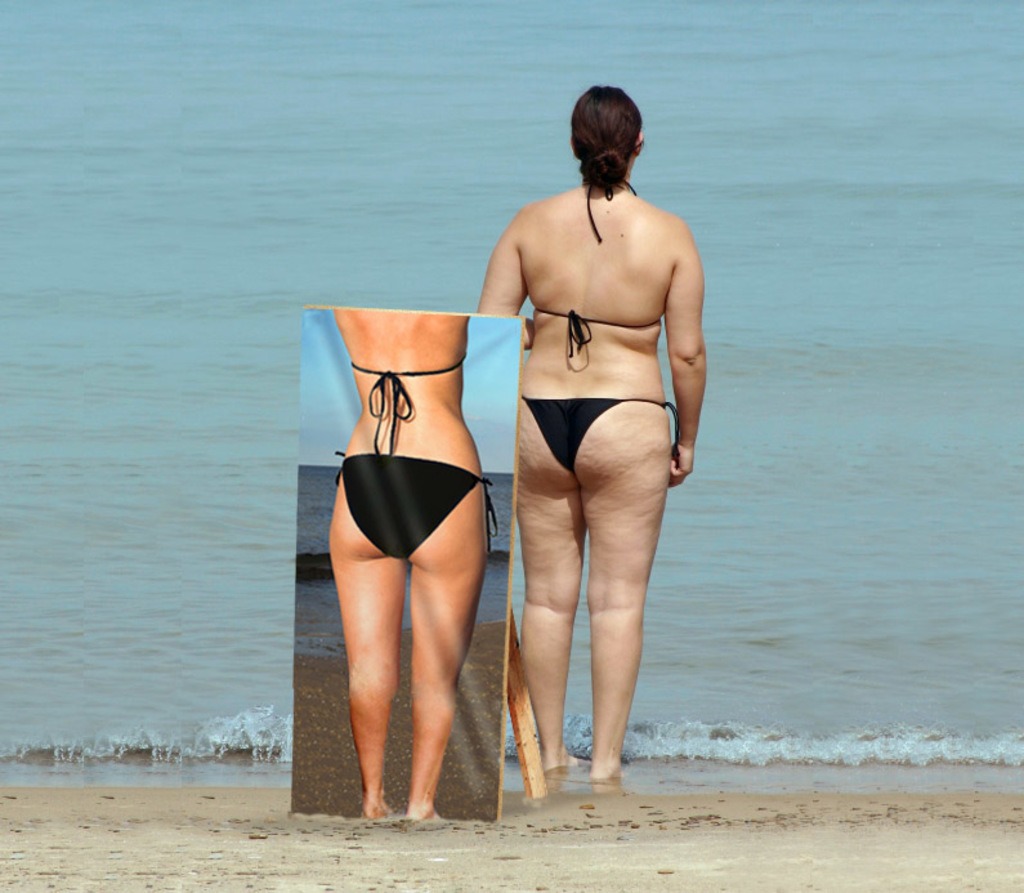Person: (326, 309, 500, 819)
